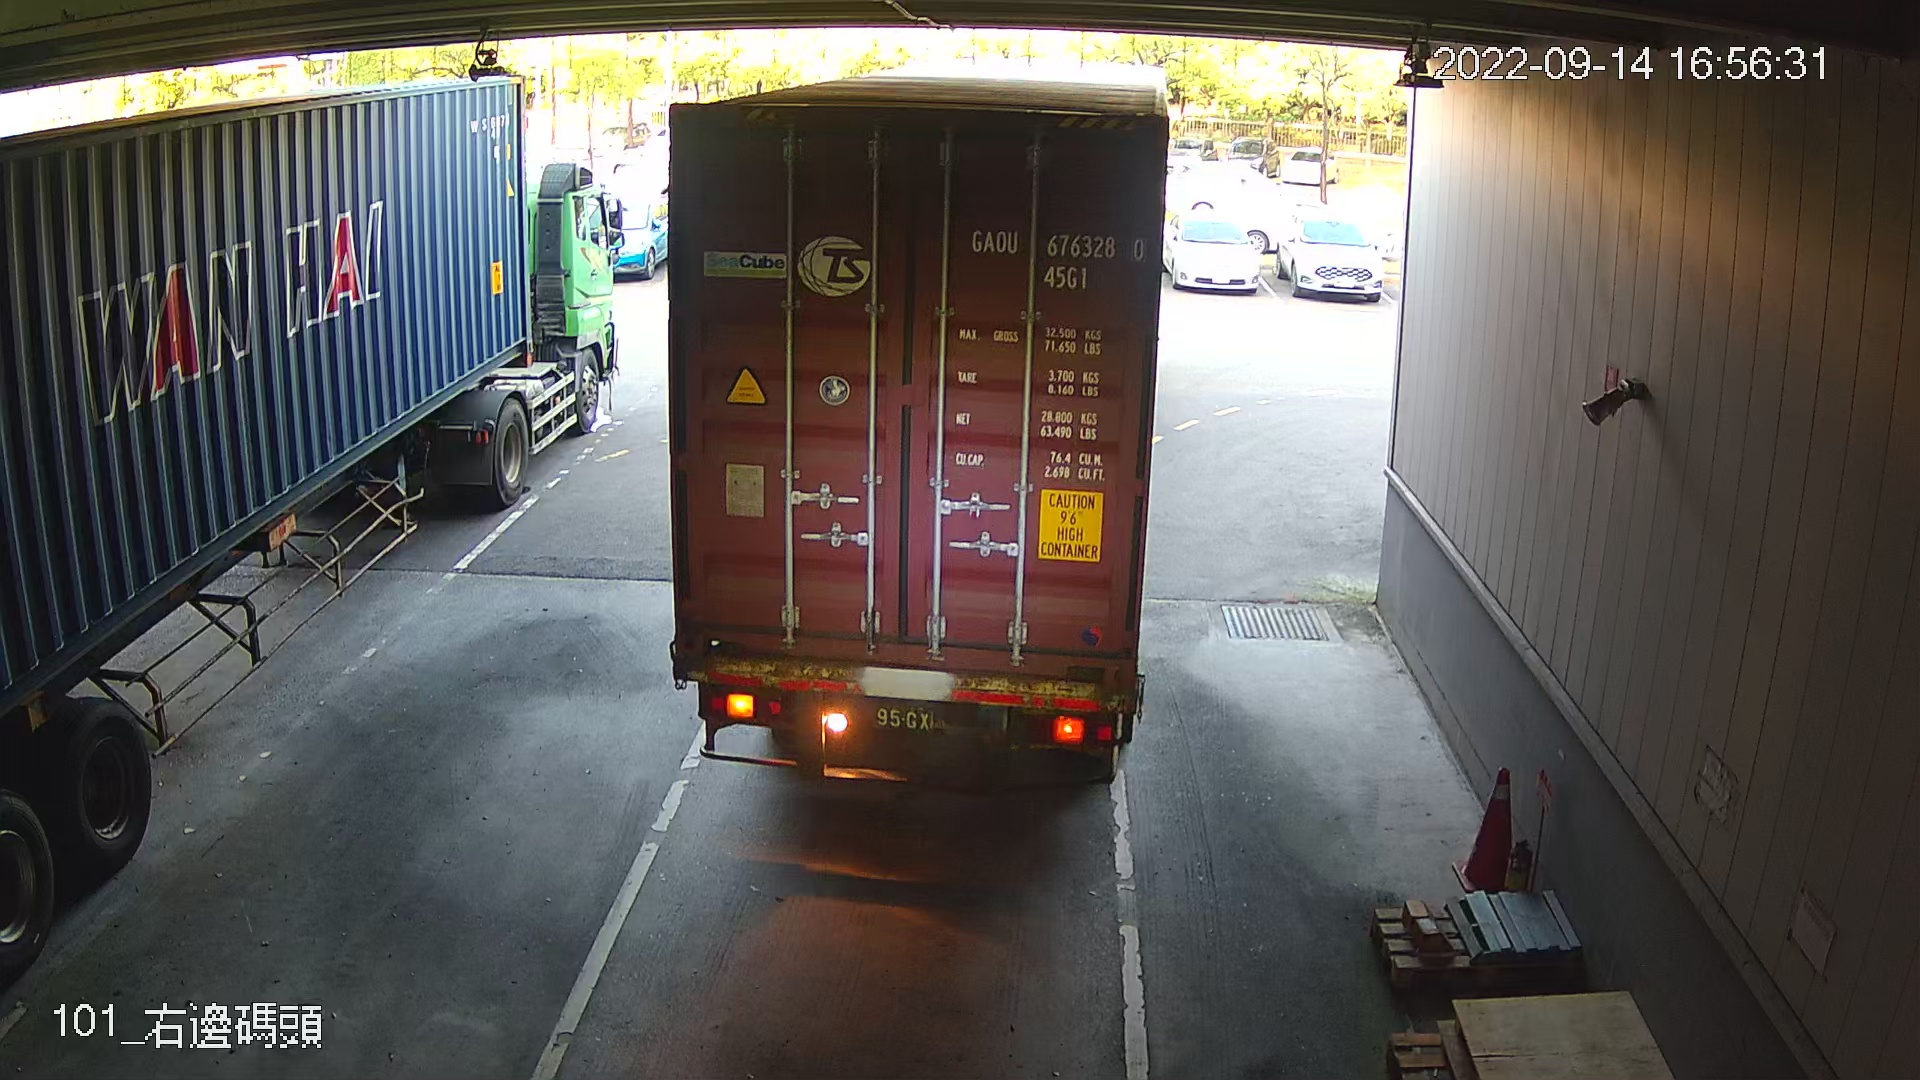container: (957, 218, 1153, 299)
